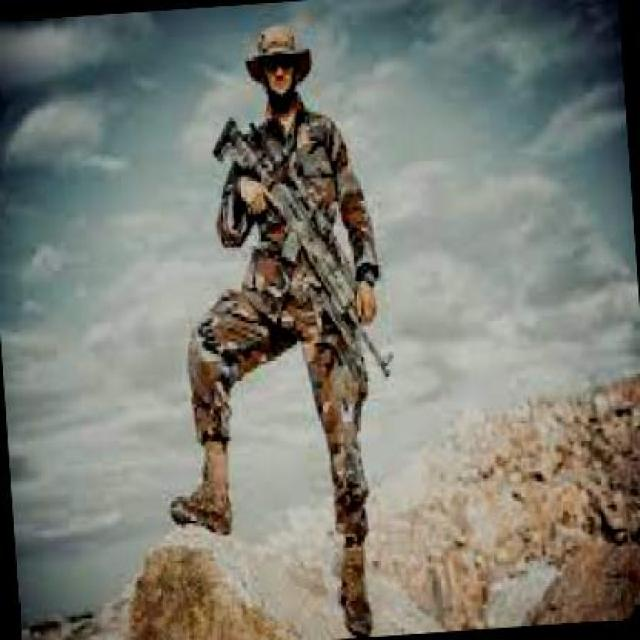MIL_Pax: (194, 18, 403, 625)
